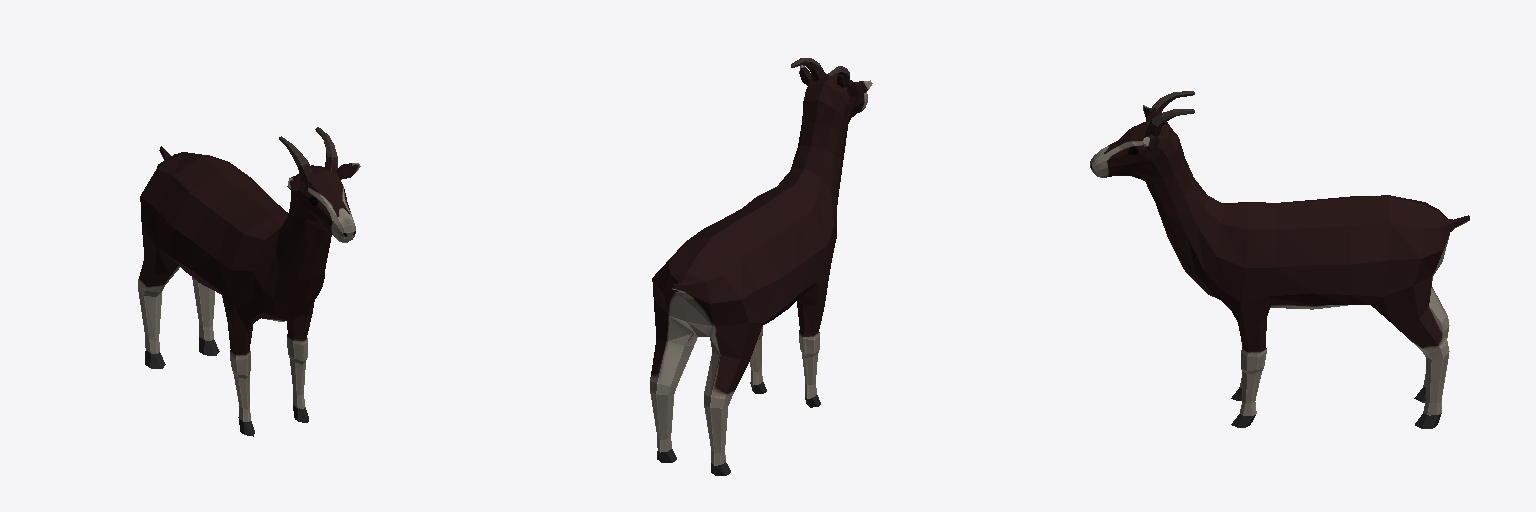
3 views of the same model, side by side, from view 1: azimuth 30°, elevation 25°; view 2: azimuth 150°, elevation 25°; view 3: azimuth 270°, elevation 25° (orthographic).
Parts seen in each view (by area): view 1: Goat_mesh; view 2: Goat_mesh; view 3: Goat_mesh.
Boxes of the visible parts, x1=… form: Goat_mesh: x1=138, y1=127, x2=360, y2=436; Goat_mesh: x1=650, y1=58, x2=872, y2=475; Goat_mesh: x1=1090, y1=91, x2=1469, y2=428.
Size of the model in its own units: 2.26 by 6.6 by 7.31.
Materials: 1 (1 with a texture image).